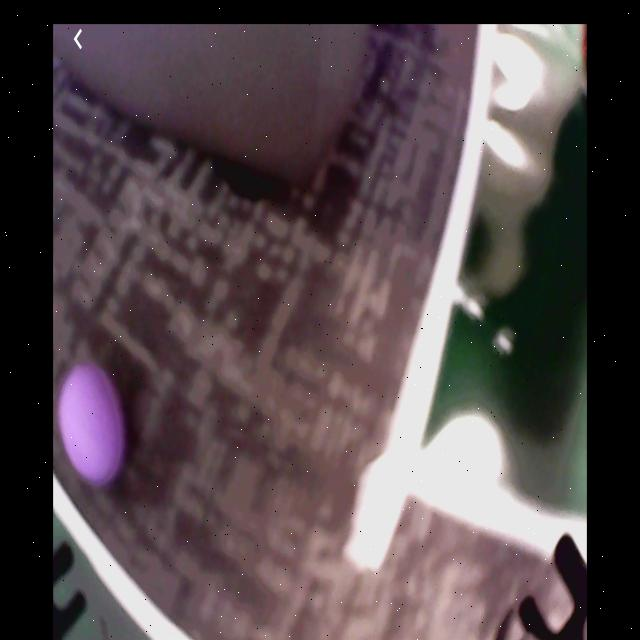ball: (58, 363, 127, 490)
